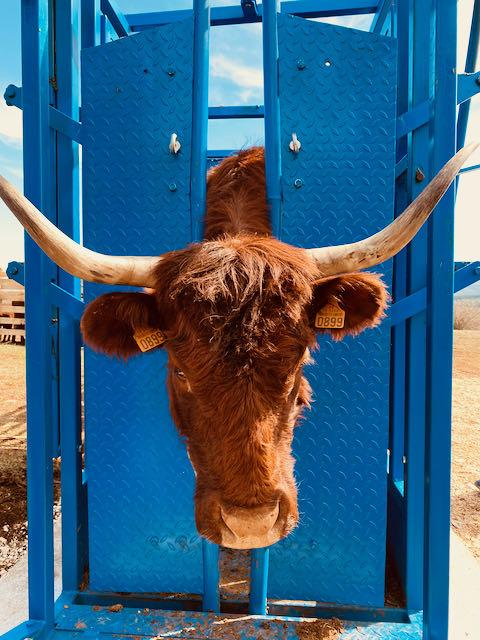muzzles: (187, 495, 303, 550)
